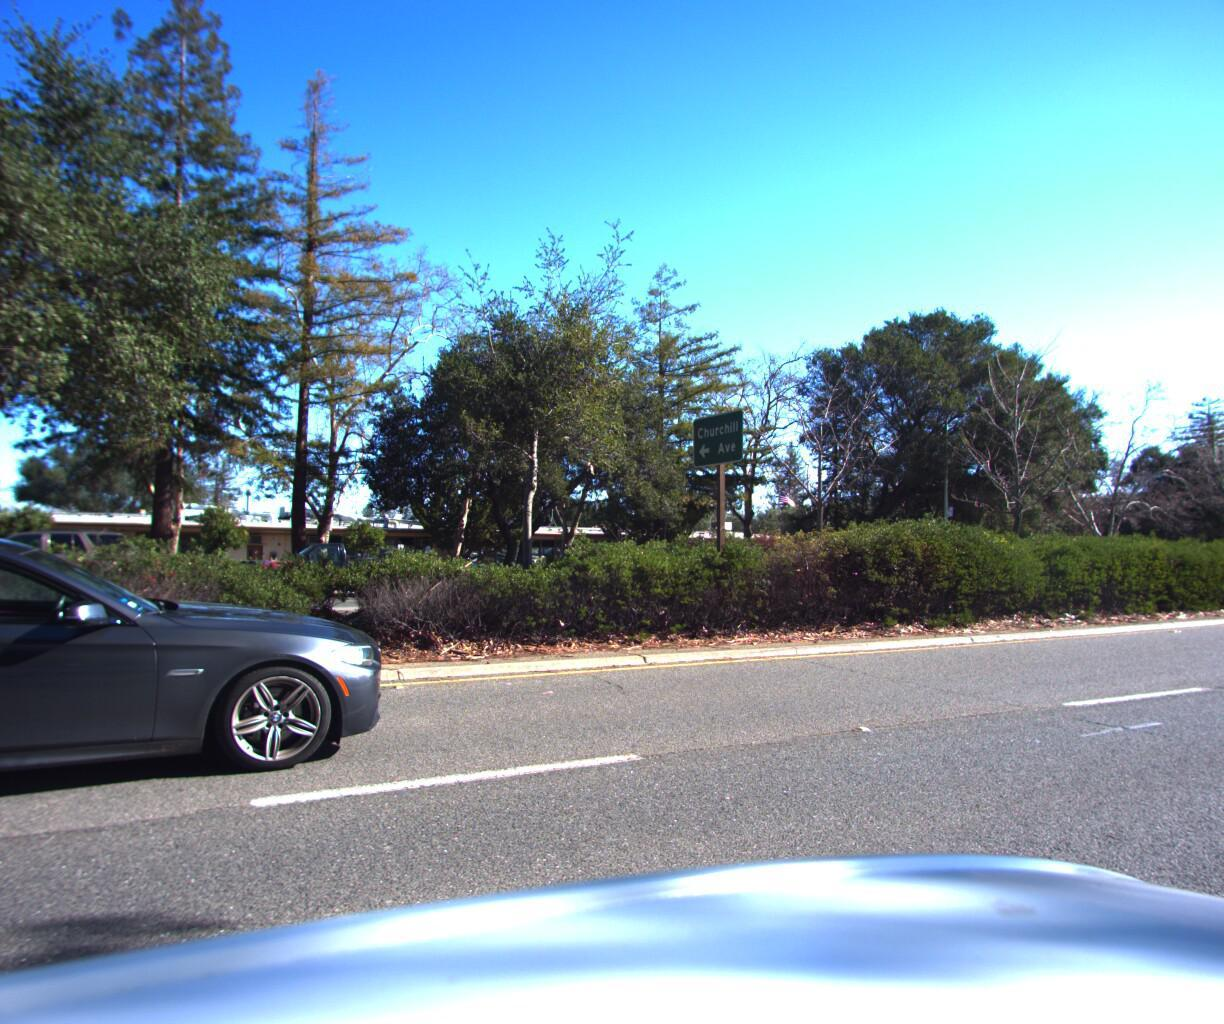car: (0, 488, 439, 909), (0, 521, 150, 610), (234, 538, 417, 597)
